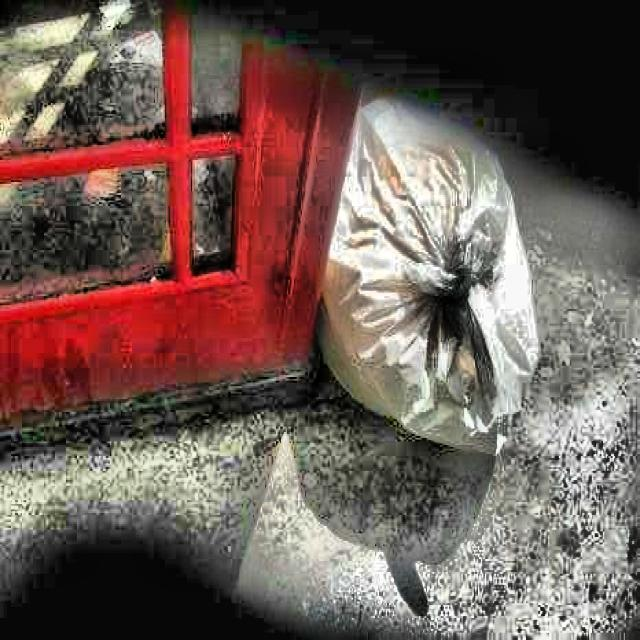Plastic: (300, 85, 560, 467)
